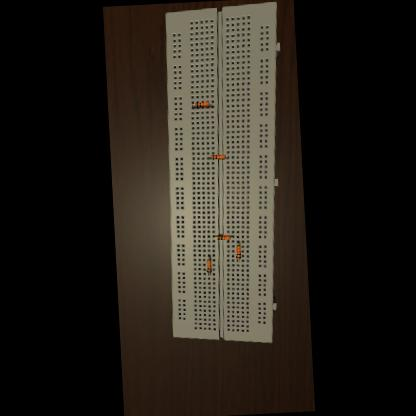breadboard: (155, 0, 295, 346)
resistor: (194, 100, 209, 106), (210, 152, 224, 158), (216, 234, 230, 240), (235, 244, 240, 258), (206, 258, 210, 272)
wire: (192, 102, 194, 106), (210, 102, 212, 106), (207, 156, 210, 158), (208, 253, 209, 257), (226, 155, 228, 157), (230, 235, 232, 237), (237, 240, 238, 244), (213, 235, 216, 236), (208, 272, 209, 274), (237, 258, 238, 260)
